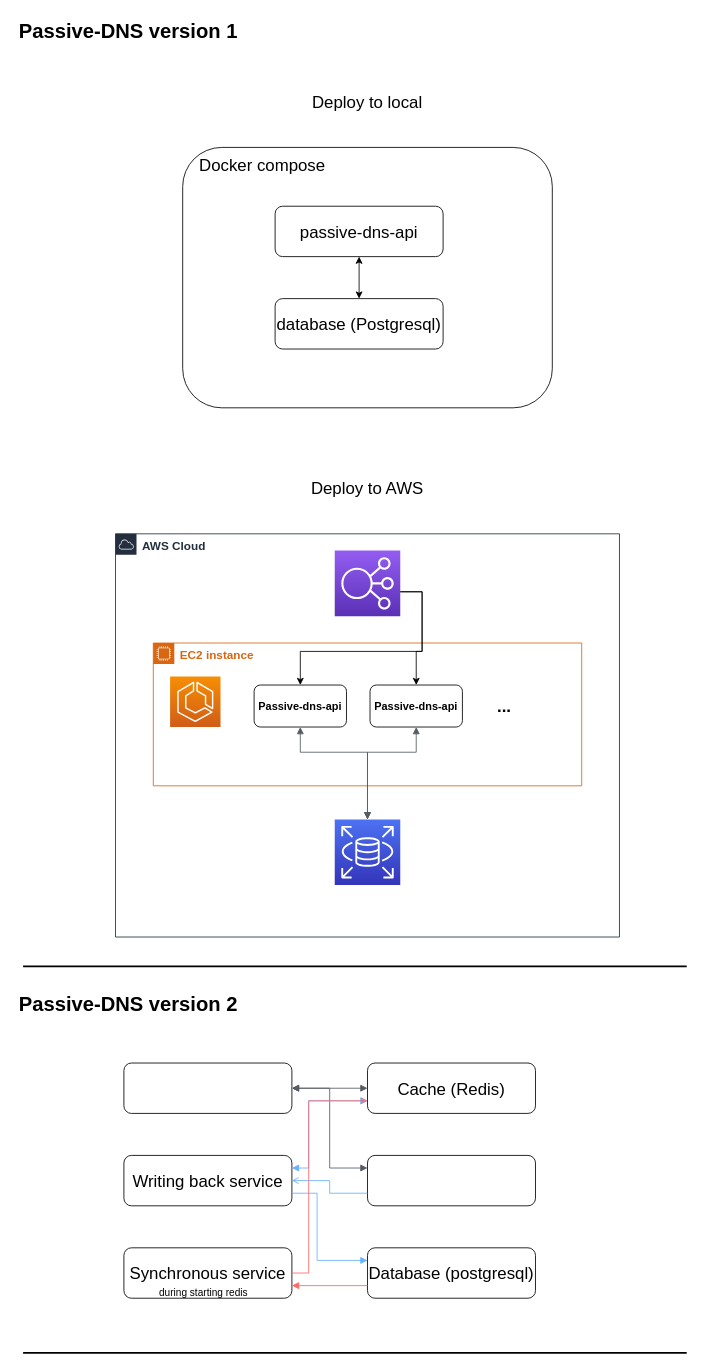
This 701x1372 diagram has some shape labels left out. The centre of each missing label's shape, as x and y in pixels:
API service: (207,1087)
ECS: (194,701)
ELB: (367,583)
Message Queue (kafka): (451,1180)
RDS (postgresql): (367,852)
